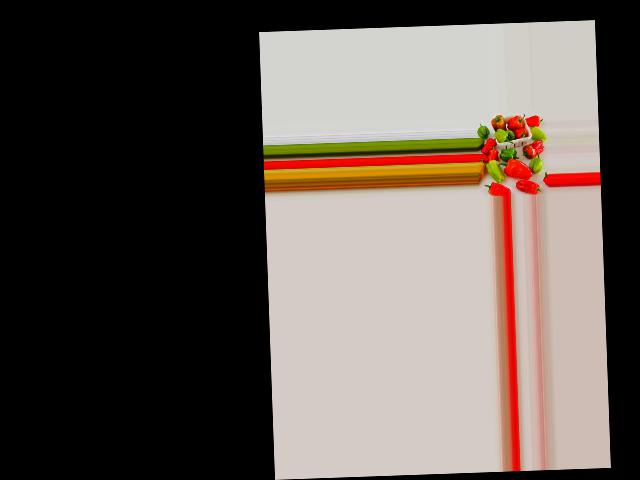bell_pepper: (483, 179, 507, 197)
